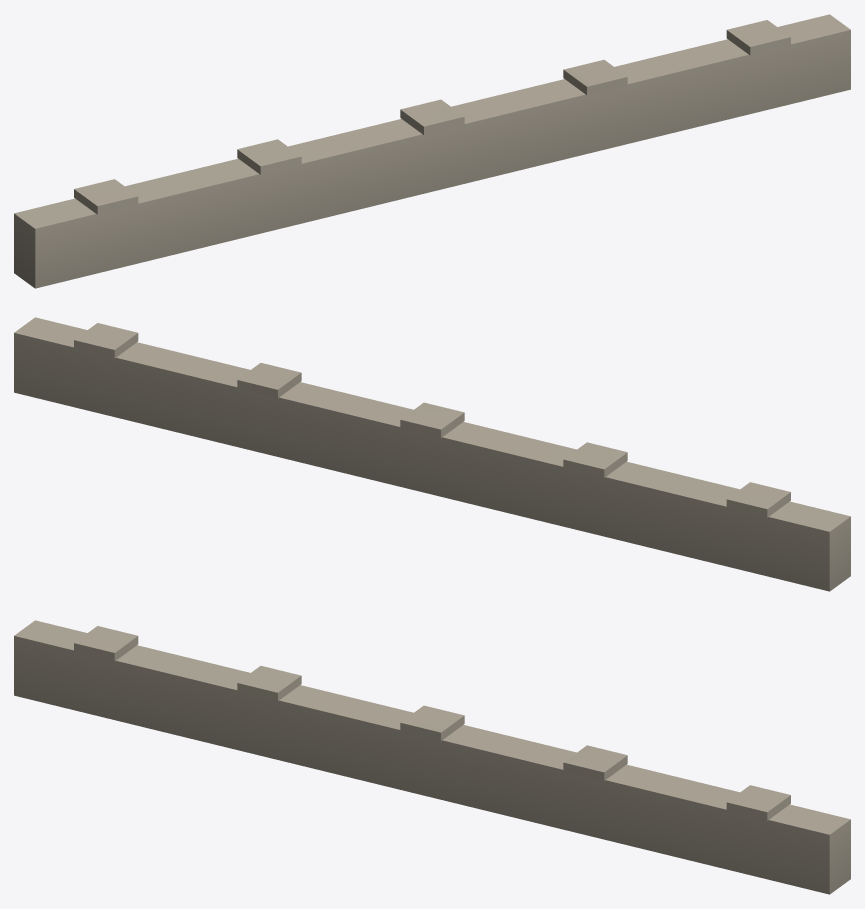
Rendered from republic_parapet_lod0.glb.
3 views of the same model, one above another, from view 1: azimuth 30°, elevation 25°; view 2: azimuth 150°, elevation 25°; view 3: azimuth 330°, elevation 25° (orthographic).
Parts seen in each view (by area): view 1: GEO-Arch_republic_parapet_LOD0; view 2: GEO-Arch_republic_parapet_LOD0; view 3: GEO-Arch_republic_parapet_LOD0.
Boxes of the visible parts, x1,y1,x2,y2 form: GEO-Arch_republic_parapet_LOD0: (14, 14, 850, 288); GEO-Arch_republic_parapet_LOD0: (14, 317, 850, 591); GEO-Arch_republic_parapet_LOD0: (14, 620, 850, 894).
Size of the model in its own units: 20 by 1.6 by 1.
